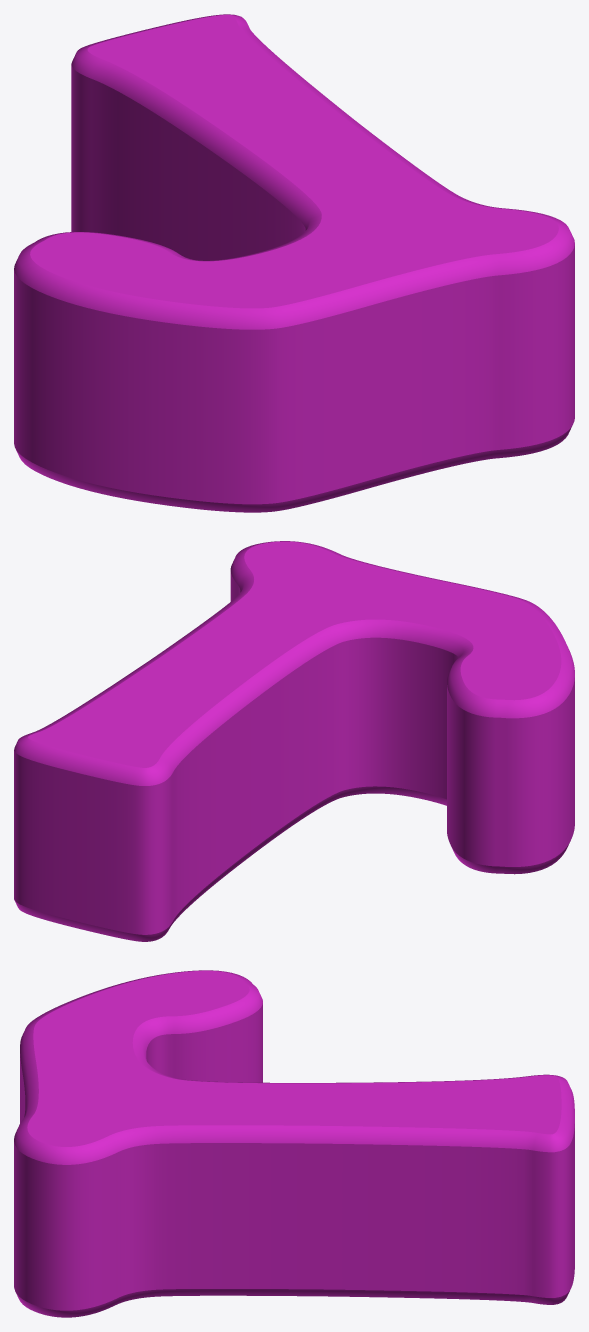
Rendered from Bubble_Letter_r.fbx.
3 views of the same model, one above another, from view 1: azimuth 30°, elevation 25°; view 2: azimuth 150°, elevation 25°; view 3: azimuth 270°, elevation 25° (orthographic). The views are drawn at different scales.
Visible parts, largest first — view 1: BubbleLetter_r; view 2: BubbleLetter_r; view 3: BubbleLetter_r.
Boxes of the visible parts, <box> form: BubbleLetter_r: <box>14,14,574,512</box>; BubbleLetter_r: <box>14,541,574,941</box>; BubbleLetter_r: <box>14,970,574,1317</box>.
Bounding box in the file's own units: 0.3312 × 0.14 × 0.4185.
